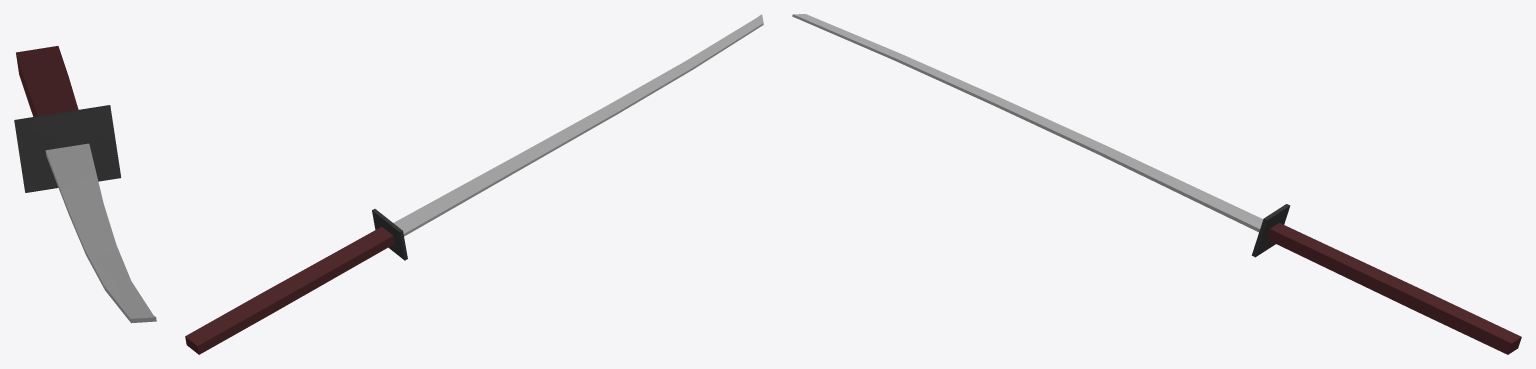
File: Katana.fbx
3 views of the same model, side by side, from view 1: azimuth 30°, elevation 25°; view 2: azimuth 150°, elevation 25°; view 3: azimuth 270°, elevation 25° (orthographic). The views are drawn at different scales.
Parts seen in each view (by area): view 1: Katana; view 2: Katana; view 3: Katana.
Boxes of the visible parts, x1,y1,x2,y2 form: Katana: [14, 46, 156, 323]; Katana: [185, 14, 763, 354]; Katana: [792, 14, 1521, 354].
Size of the model in its own units: 2554 by 1531 by 5181.
